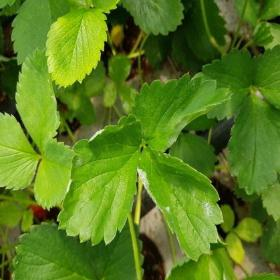Powdery Mildew Leaf: (58, 112, 145, 247), (136, 145, 225, 263), (131, 71, 235, 152)
